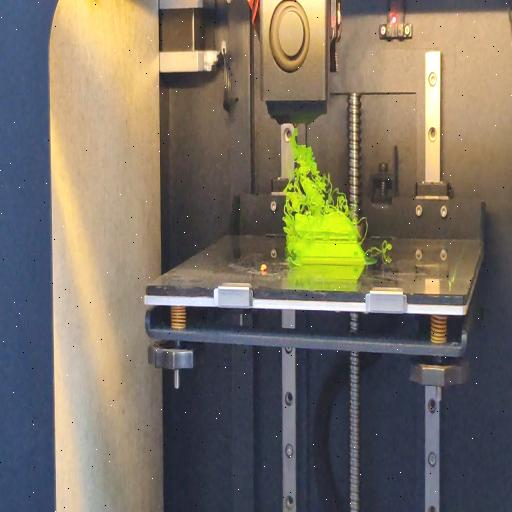spaghetti: (284, 129, 349, 215), (284, 216, 294, 272), (368, 238, 392, 256), (358, 216, 368, 243)
